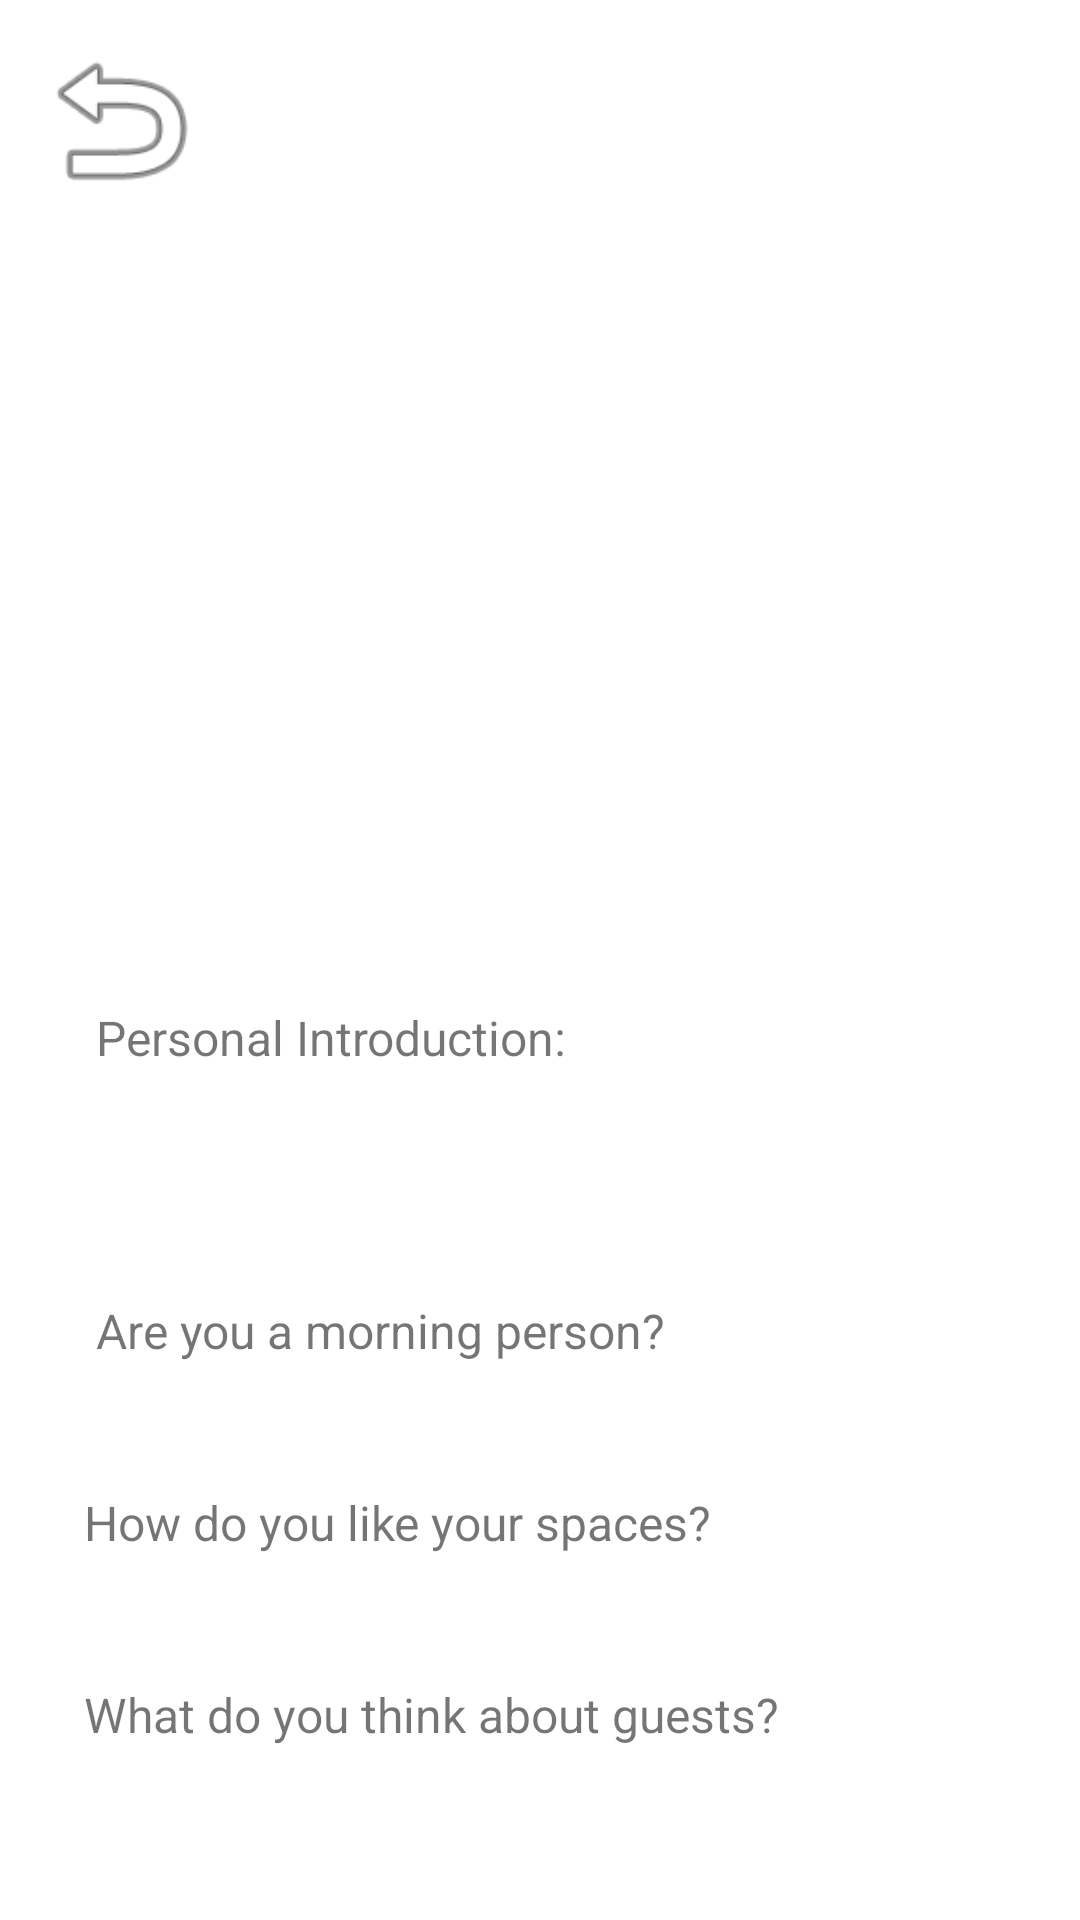

Screen size 1080px x 1920px. Icon name, then its box in pixels as (x1, y1, x2, y2):
revert: (57, 62, 188, 180)
